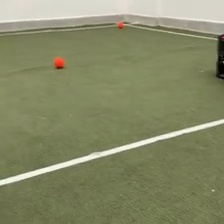ball: (53, 56, 64, 68), (117, 20, 124, 28)
